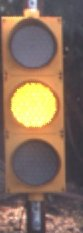Yellow: (2, 9, 69, 207)
